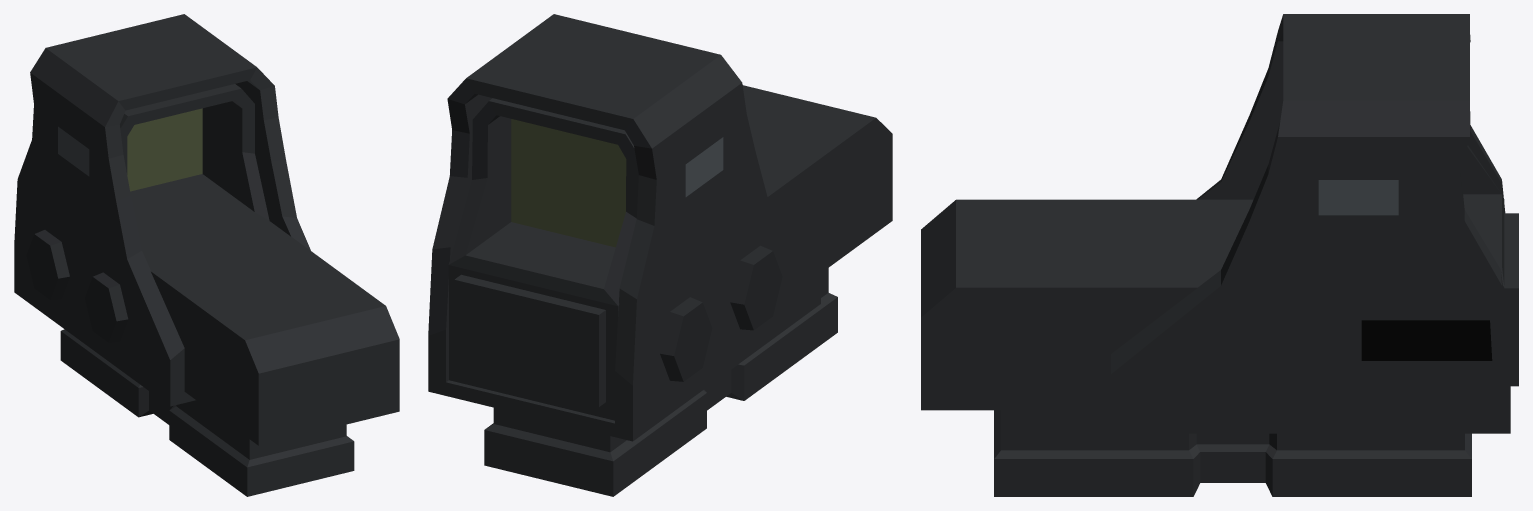
File: SM_Wep_Attach_Sight_02.fbx
3 views of the same model, side by side, from view 1: azimuth 30°, elevation 25°; view 2: azimuth 150°, elevation 25°; view 3: azimuth 270°, elevation 25° (orthographic). The views are drawn at different scales.
Parts seen in each view (by area): view 1: SM_Wep_Attach_Sight_02; view 2: SM_Wep_Attach_Sight_02; view 3: SM_Wep_Attach_Sight_02.
Boxes of the visible parts, x1,y1,x2,y2 form: SM_Wep_Attach_Sight_02: (14, 14, 399, 496); SM_Wep_Attach_Sight_02: (428, 14, 892, 496); SM_Wep_Attach_Sight_02: (921, 14, 1518, 496).
Bounding box in the file's own units: 6.69 × 11.21 × 14.96.
1 material, 1 textured.
